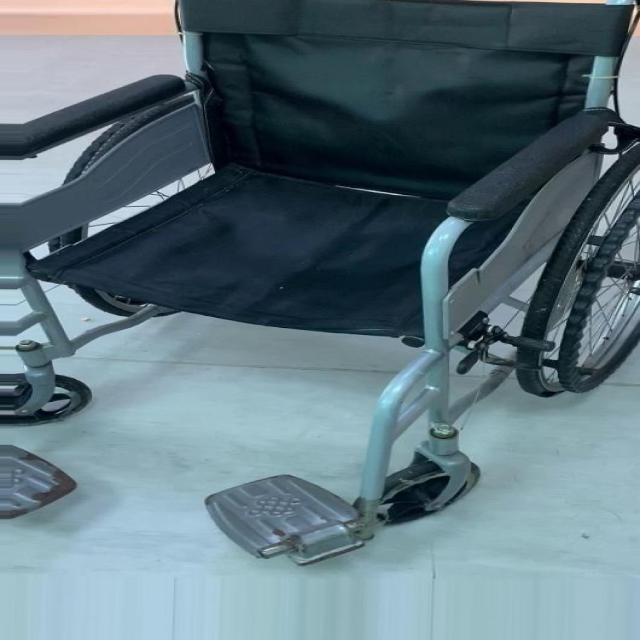wheelchair: (1, 0, 640, 588)
